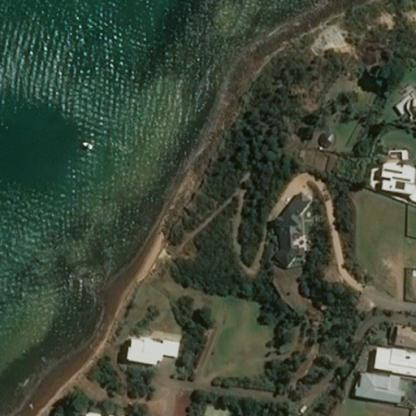ship: (76, 134, 98, 154)
